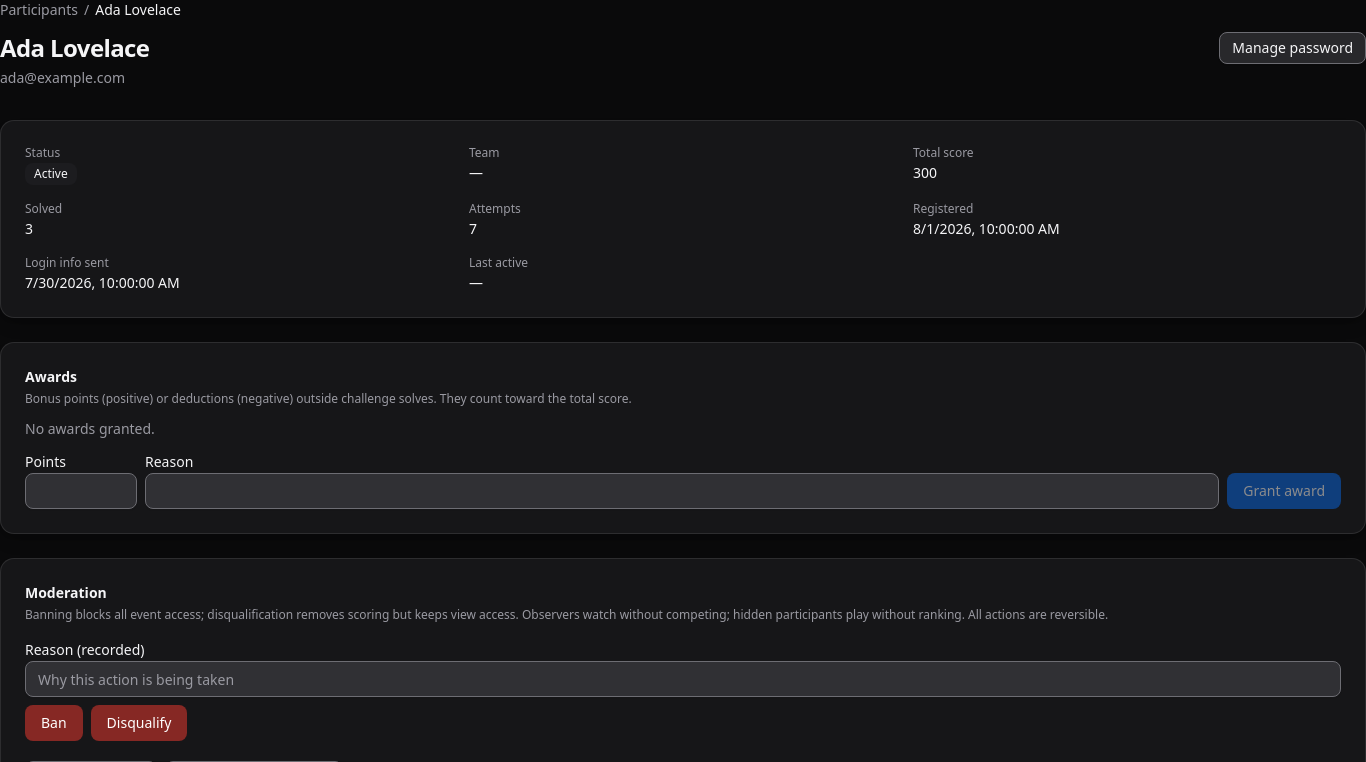
Scenario: ParticipantDetailPage › sets an organizer-supplied password through the same dialog
Click the button "Manage password" at (1293, 48), box left=1219, top=32, right=1365, bottom=64
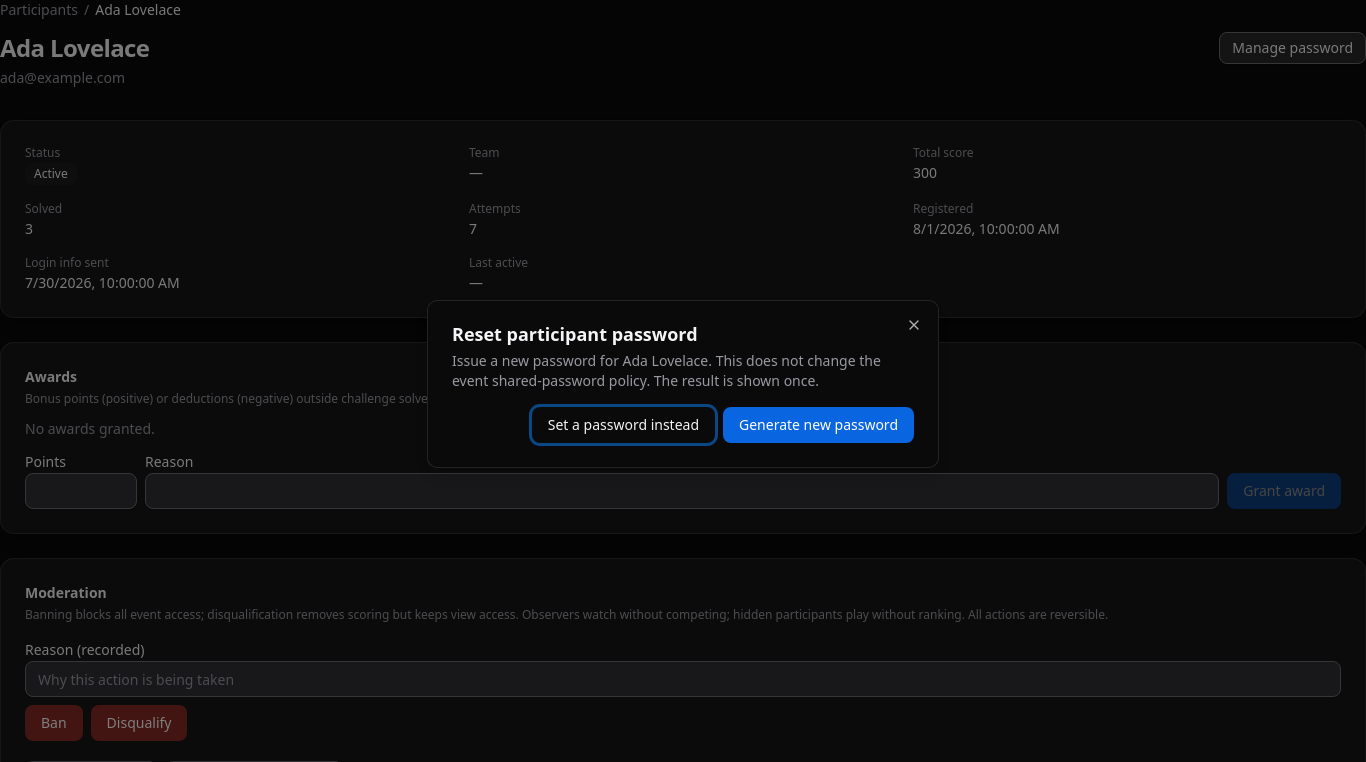
Click the button "Set a password instead" at (623, 425), box left=532, top=407, right=715, bottom=443
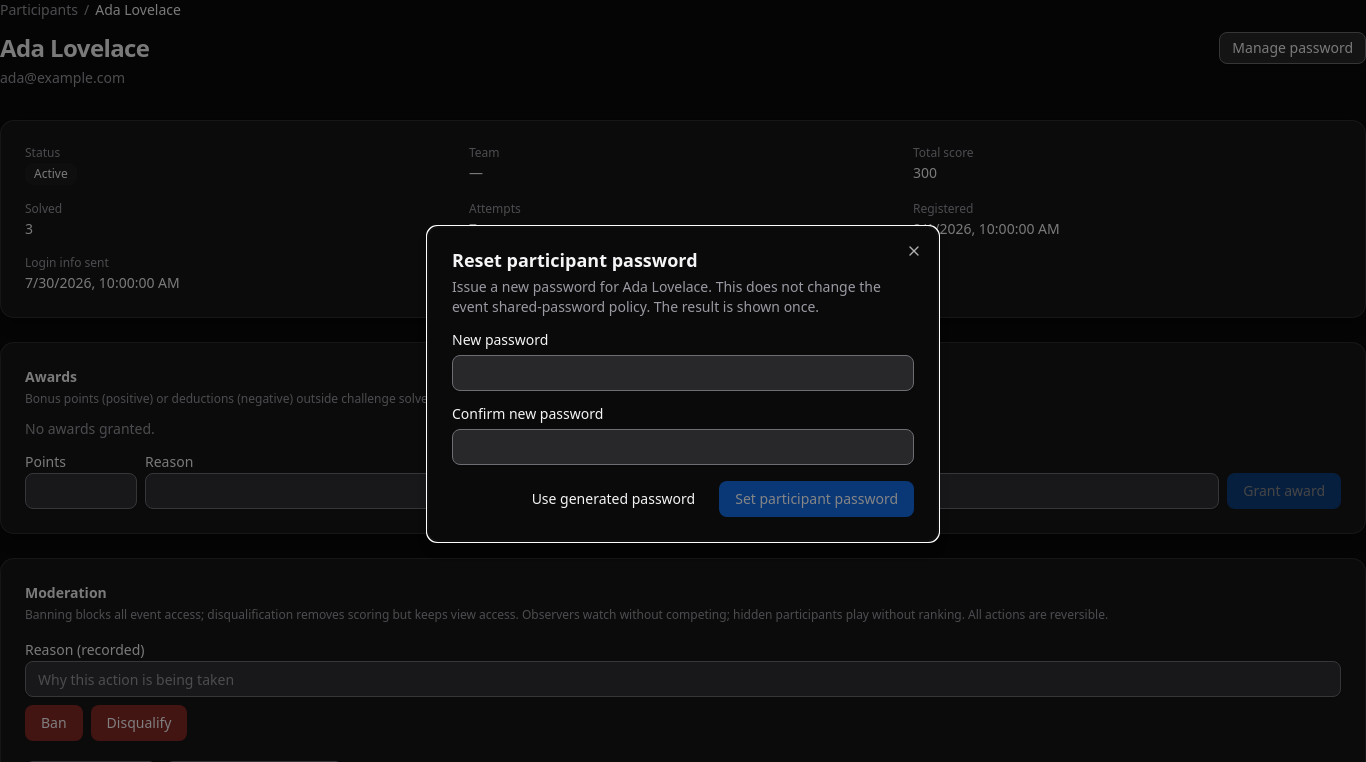
Type "Organizer-Supplied-Password-42" into the password field labelled "New password" at (683, 373), box left=452, top=355, right=914, bottom=391
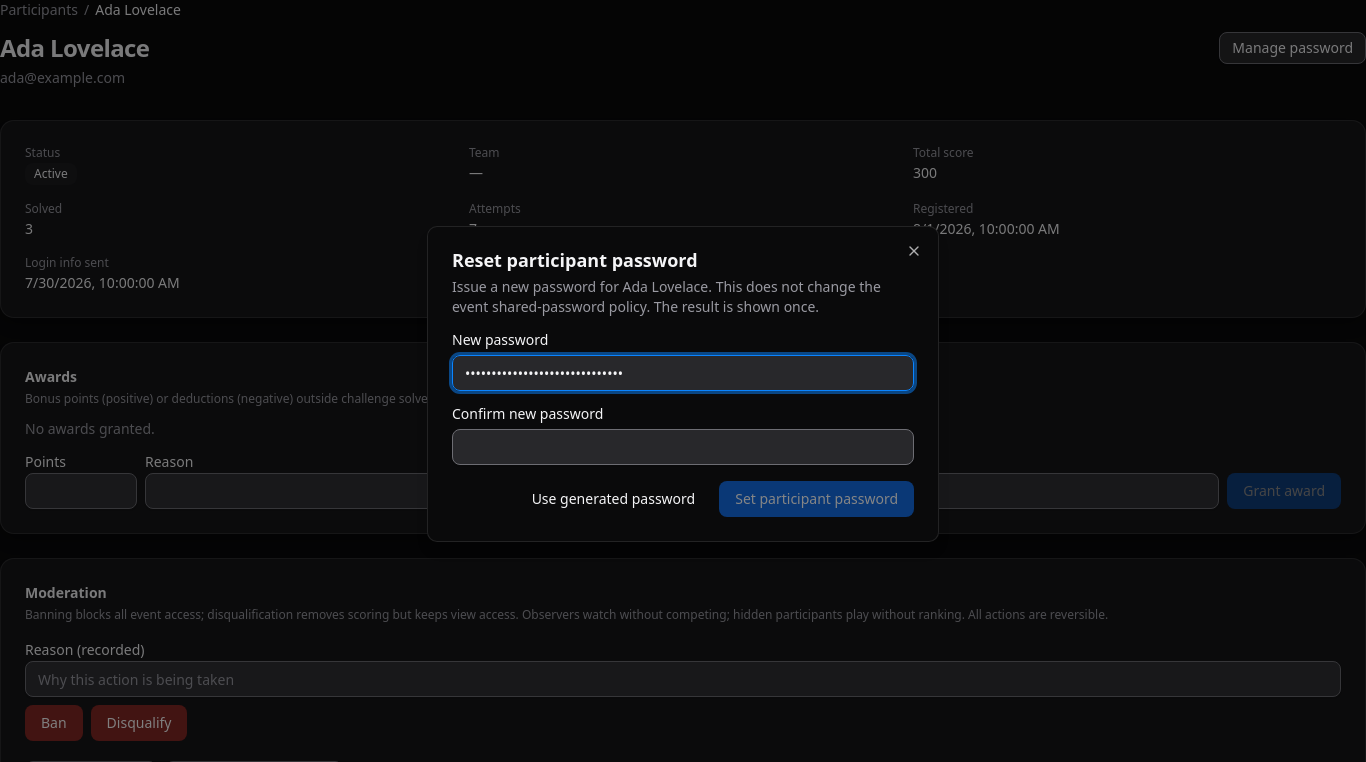
Type "Organizer-Supplied-Password-42" into the password field labelled "Confirm new password" at (683, 447), box left=452, top=429, right=914, bottom=465
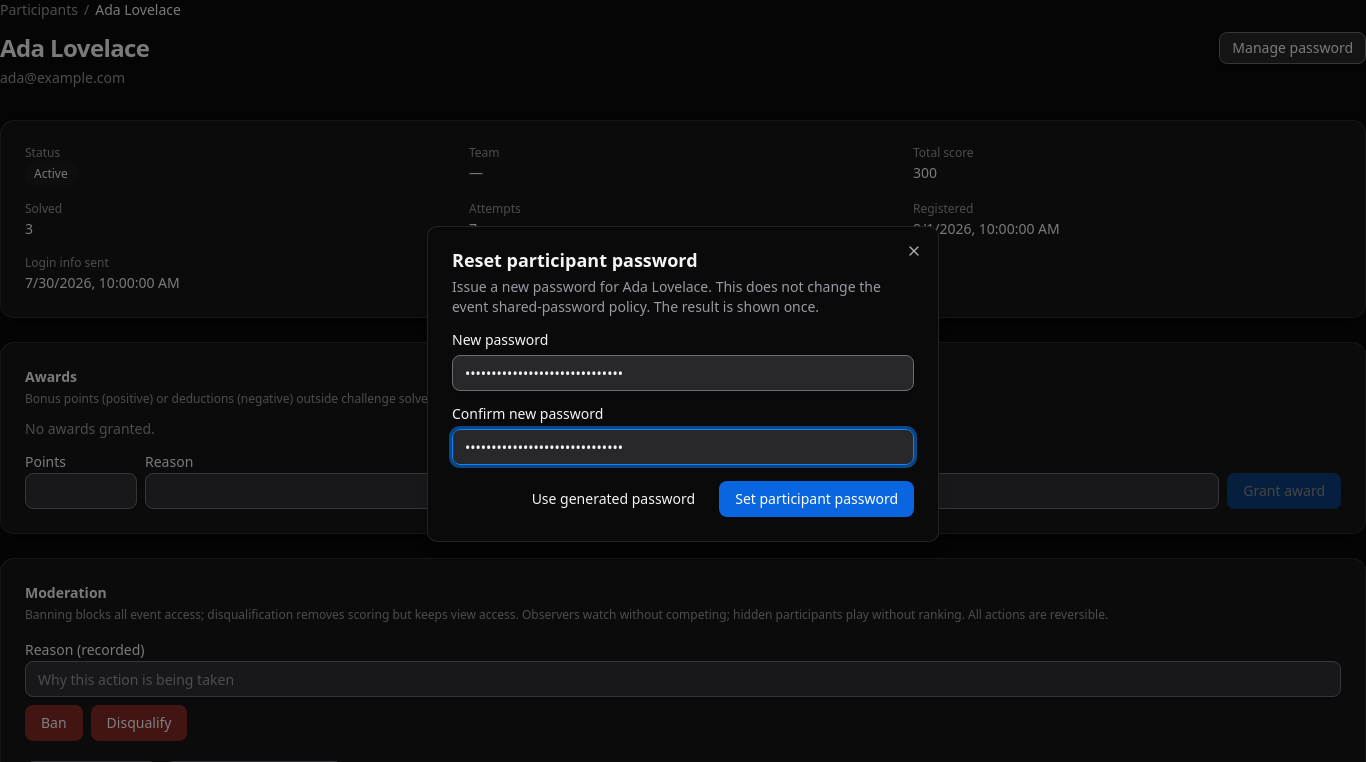
Click the button "Set participant password" at (817, 499), box left=719, top=481, right=914, bottom=517
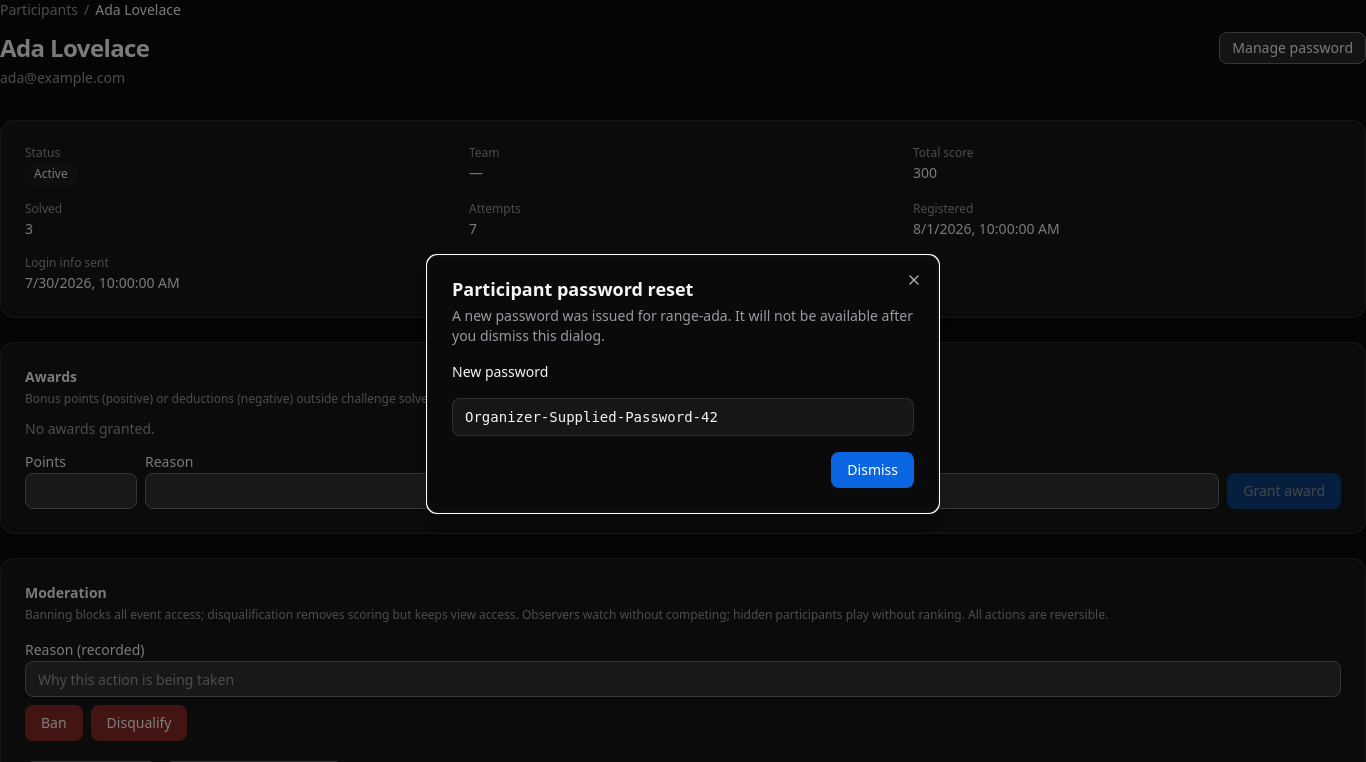
expect the text "Organizer-Supplied-Password-42" is shown: met, box left=452, top=398, right=914, bottom=436
